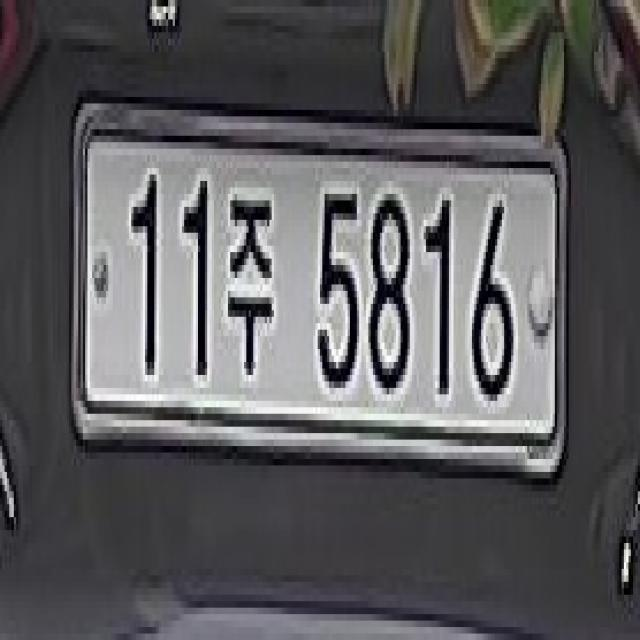1: (422, 178, 456, 412), (129, 158, 164, 380), (183, 163, 209, 386)
5: (316, 178, 362, 408)
6: (466, 182, 518, 412)
8: (366, 172, 419, 416)
ju: (227, 178, 286, 403)
license_plate: (67, 90, 569, 490)
